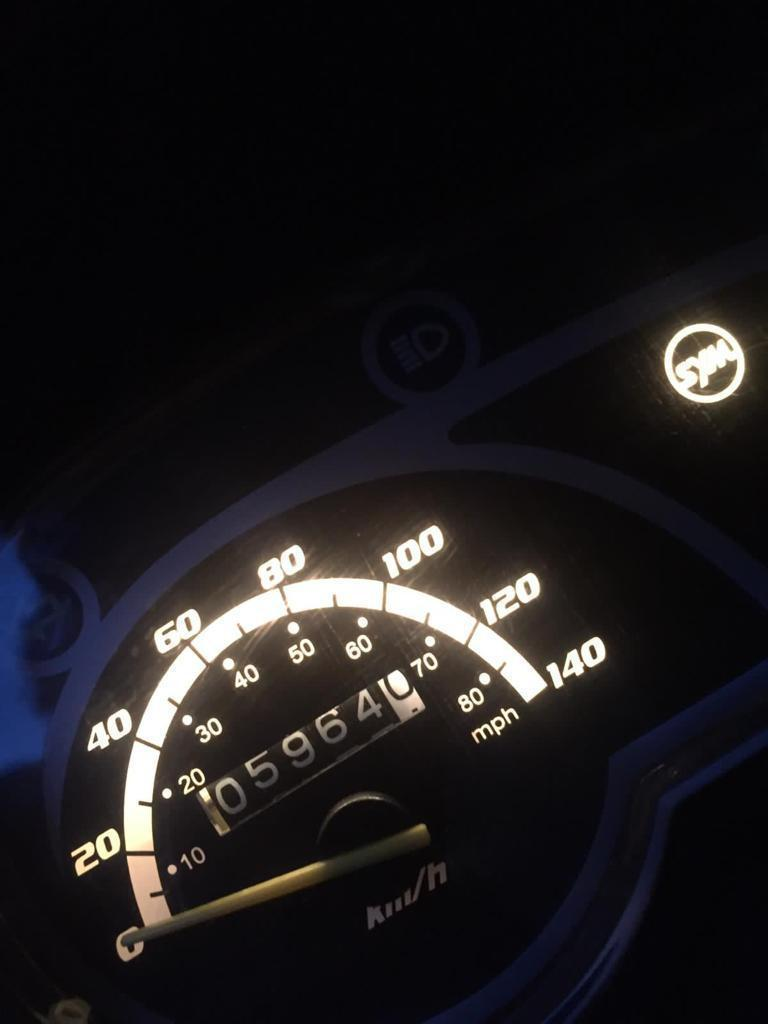0: (213, 775, 247, 815), (383, 667, 413, 701), (207, 716, 223, 736), (243, 664, 260, 682), (191, 766, 204, 785)
3: (194, 724, 210, 742)
4: (356, 687, 382, 724), (233, 671, 249, 689)
5: (243, 748, 279, 790)
6: (312, 706, 347, 744)
7: (408, 664, 425, 677)
9: (279, 729, 317, 770)
odometer: (190, 663, 430, 839)
